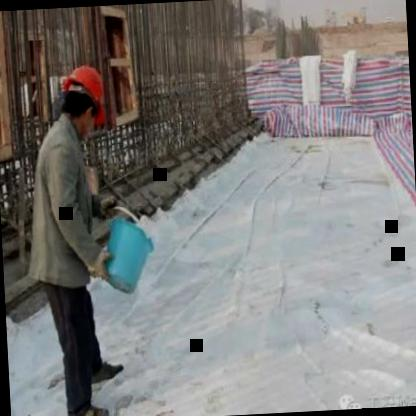helmet: (56, 62, 109, 130)
